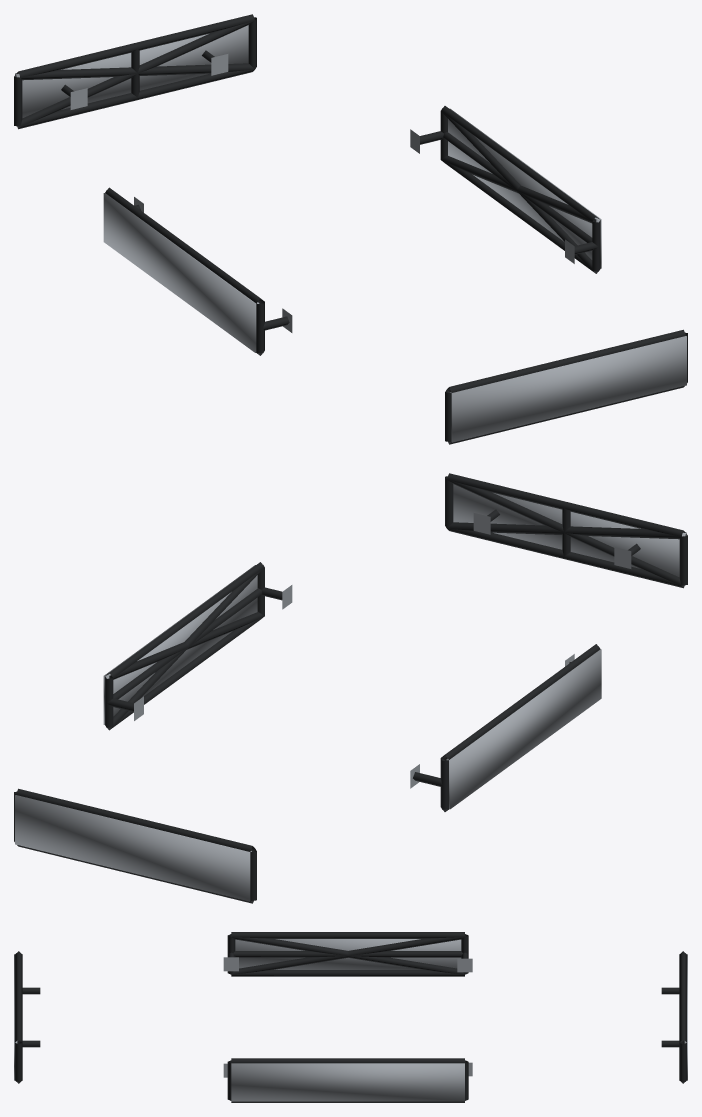
Rendered from vantra_tempora_protecao.glb.
3 views of the same model, one above another, from view 1: azimuth 30°, elevation 25°; view 2: azimuth 150°, elevation 25°; view 3: azimuth 270°, elevation 25° (orthographic). The views are drawn at different scales.
Visible parts, largest first — view 1: Protection_front_Level3_Details, Protection_left_Level3_Details, Protection_rear_Level1_Details, Protection_rear_Level3_Details, Protection_right_Level1_Details, Protection_rear_Level2_Details, Protection_right_Level2_Details, Protection_right_Level3_Details, Protection_front_Level1_Details, Protection_left_Level1_Details; view 2: Protection_rear_Level3_Details, Protection_left_Level3_Details, Protection_front_Level1_Details, Protection_front_Level3_Details, Protection_right_Level1_Details, Protection_front_Level2_Details, Protection_right_Level2_Details, Protection_right_Level3_Details, Protection_rear_Level1_Details, Protection_left_Level1_Details; view 3: Protection_right_Level3_Details, Protection_left_Level2_Details, Protection_left_Level1_Details, Protection_left_Level3_Details, Protection_right_Level1_Details, Protection_rear_Level1_Details, Protection_front_Level1_Details.
Part boxes in pixels (box(x1,y1,x2,y2)): Protection_front_Level3_Details: box(450, 336, 686, 442); Protection_left_Level3_Details: box(103, 193, 259, 352); Protection_rear_Level1_Details: box(14, 14, 256, 129); Protection_rear_Level3_Details: box(15, 25, 248, 118); Protection_right_Level1_Details: box(410, 106, 600, 273); Protection_rear_Level2_Details: box(16, 20, 254, 128); Protection_right_Level2_Details: box(441, 112, 599, 273); Protection_right_Level3_Details: box(448, 108, 601, 268); Protection_front_Level1_Details: box(445, 329, 687, 444); Protection_left_Level1_Details: box(105, 187, 292, 355); Protection_rear_Level3_Details: box(15, 795, 251, 901); Protection_left_Level3_Details: box(446, 649, 601, 809); Protection_front_Level1_Details: box(445, 473, 687, 588); Protection_front_Level3_Details: box(453, 484, 686, 577); Protection_right_Level1_Details: box(105, 562, 292, 730); Protection_front_Level2_Details: box(447, 479, 685, 587); Protection_right_Level2_Details: box(105, 568, 264, 729); Protection_right_Level3_Details: box(103, 565, 257, 724); Protection_rear_Level1_Details: box(14, 788, 256, 903); Protection_left_Level1_Details: box(410, 644, 600, 811); Protection_right_Level3_Details: box(231, 1063, 464, 1101); Protection_left_Level2_Details: box(231, 935, 465, 974); Protection_left_Level1_Details: box(223, 932, 472, 976); Protection_left_Level3_Details: box(235, 939, 461, 969); Protection_right_Level1_Details: box(223, 1058, 472, 1102); Protection_rear_Level1_Details: box(661, 951, 686, 1083); Protection_front_Level1_Details: box(15, 951, 40, 1083).
Bounding box in the file's own units: 2.22 × 0.354 × 4.85.
1 material, 1 textured.
